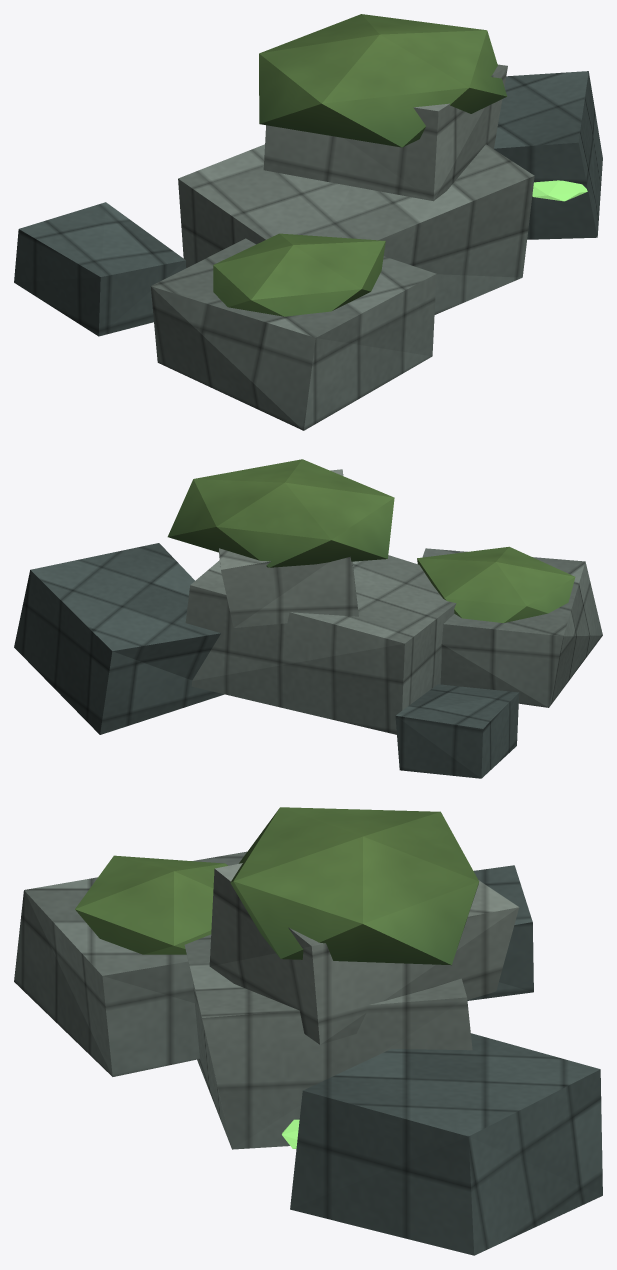
Rendered from ruin_block_pile.glb.
3 views of the same model, one above another, from view 1: azimuth 30°, elevation 25°; view 2: azimuth 150°, elevation 25°; view 3: azimuth 270°, elevation 25° (orthographic). The views are drawn at different scales.
Parts seen in each view (by area): view 1: ruin_block_pile; view 2: ruin_block_pile; view 3: ruin_block_pile.
Boxes of the visible parts, bbox=[...] form: ruin_block_pile: bbox=[14, 14, 602, 430]; ruin_block_pile: bbox=[14, 459, 602, 778]; ruin_block_pile: bbox=[14, 807, 602, 1255].
Size of the model in its own units: 3.06 by 1.28 by 2.34.
Materials: 3 (3 with a texture image).
